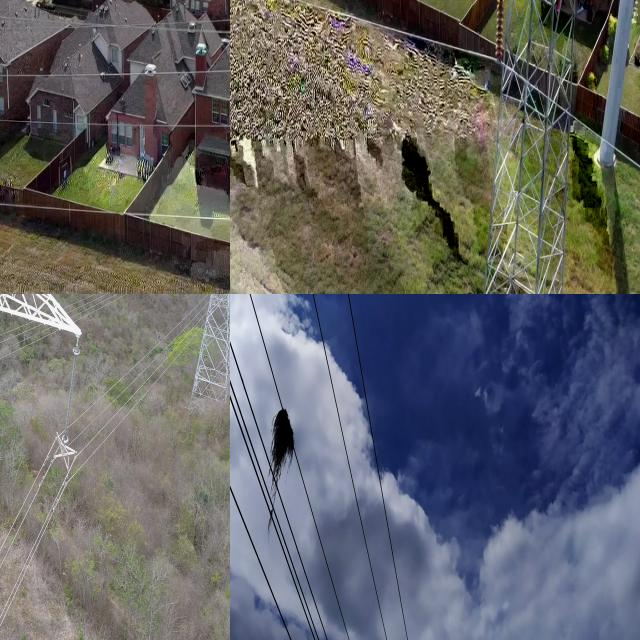杆塔: (470, 0, 584, 294), (189, 294, 230, 402)
植被遮挡: (264, 401, 300, 535)
正常电缆: (82, 324, 198, 453), (83, 311, 203, 434), (88, 294, 206, 413), (84, 346, 187, 471), (0, 471, 72, 632), (0, 440, 56, 558)
正常绝缘子: (53, 338, 87, 459), (493, 0, 507, 73)
